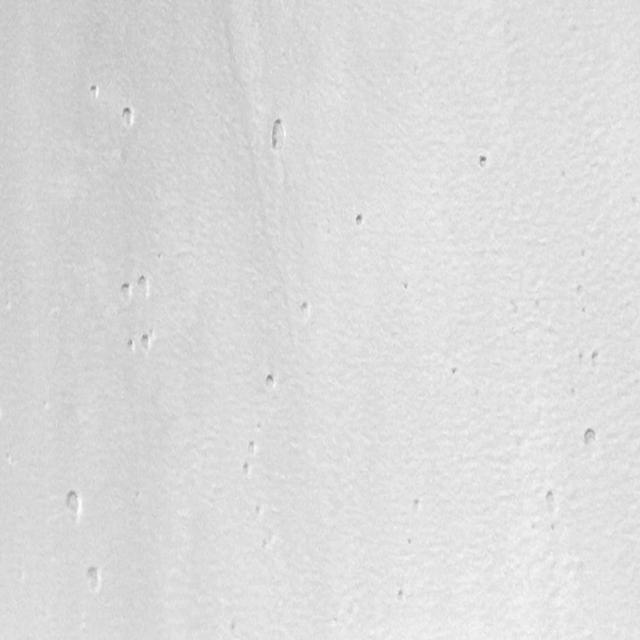pin holes: (266, 115, 289, 152), (62, 487, 85, 520), (83, 563, 104, 595), (542, 488, 562, 514), (581, 425, 601, 449), (135, 274, 154, 299), (122, 106, 140, 129), (296, 299, 314, 322), (119, 282, 136, 305), (224, 618, 242, 638), (263, 372, 280, 393), (86, 81, 103, 102), (138, 331, 154, 352), (354, 212, 369, 234), (588, 349, 604, 369), (394, 586, 410, 604), (477, 154, 492, 171), (409, 498, 424, 514), (573, 283, 587, 300), (125, 338, 137, 355), (240, 462, 252, 478), (576, 348, 588, 364), (400, 279, 414, 292), (246, 439, 258, 454), (254, 504, 266, 519), (569, 387, 581, 402), (448, 365, 460, 379), (405, 536, 416, 550)
